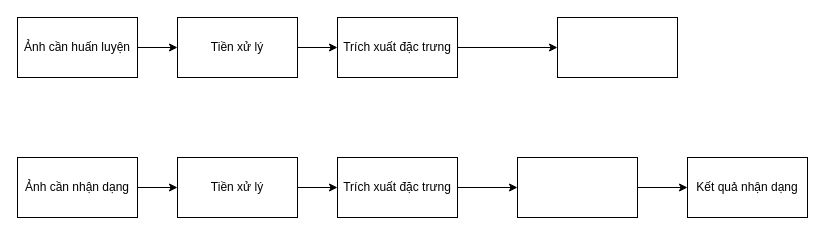
Image size: 825x235. Some labels were removed from this diagram. The box of each missing label's shape, as (x1, y1, x2, y2) in pixels:
Lưu trữ text file: (556, 16, 678, 78)
So sánh với dữ liệu có sẵn: (516, 156, 638, 218)
